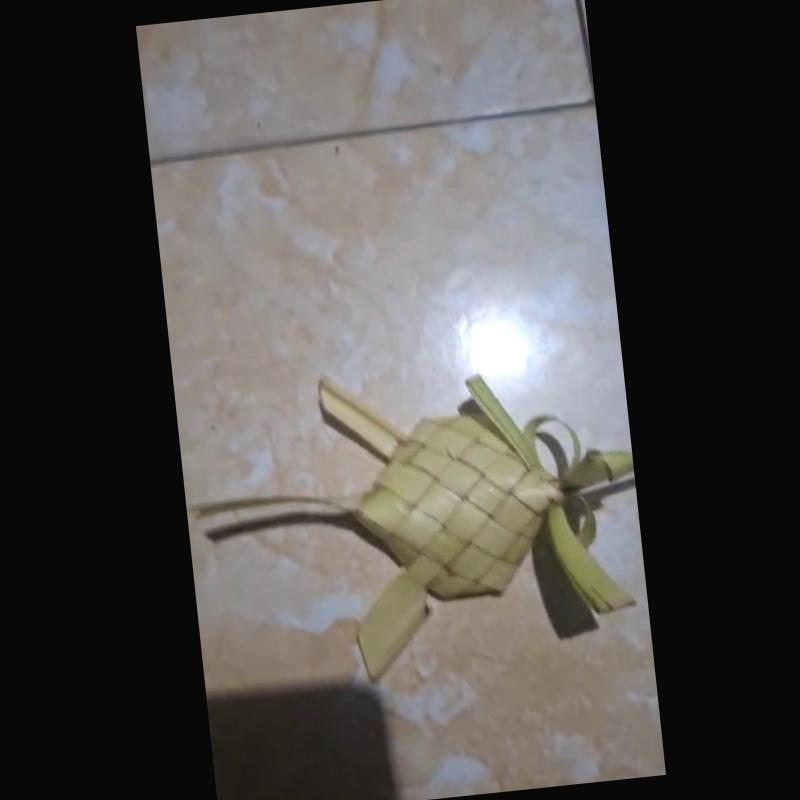Tipat Dampulan: (192, 370, 635, 689)
